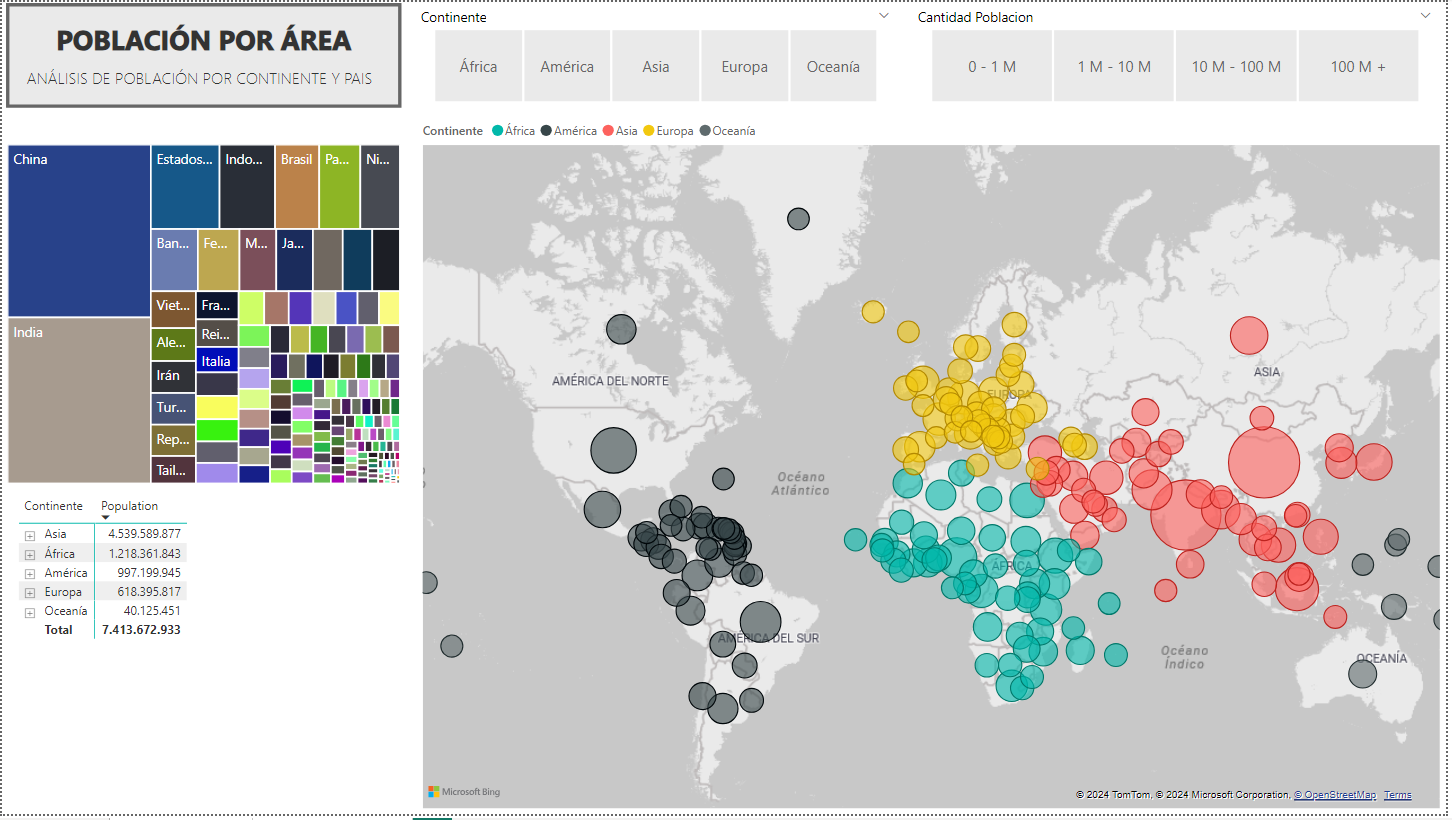

This screenshot's page, from the dashboard's own definition file:
{"tool":"powerbi","page":{"name":"Poblacion por area","canvas":[1280,720],"ordinal":0},"visuals":[{"type":"pivotTable","fields":{"Rows":["Paises.Continente","Paises.Pais"],"Values":["Sum(Population.Population)"]},"box":[10.2,432.3,347.7,287.8],"z":0},{"type":"slicer","fields":{"Values":["Population.Cantidad Poblacion"]},"box":[799.2,0,480.8,94.8],"z":1000},{"type":"slicer","fields":{"Values":["Paises.Continente"]},"box":[357.8,0,441.3,94.8],"z":2000},{"type":"treemap","fields":{"Group":["Paises.Pais"],"Values":["Sum(Population.Population)"]},"box":[0,121.9,357.8,310.4],"z":3000},{"type":"map","fields":{"Category":["Paises.Pais"],"Size":["Sum(Population.Population)"],"Series":["Paises.Continente"]},"box":[368,94.8,912,625.3],"z":4000},{"type":"basicShape","box":[0,0,357.8,94.8],"z":5000},{"type":"textbox","box":[0,11.3,357.8,55.3],"z":6000},{"type":"textbox","box":[0,51.9,349.9,50.8],"z":7000}]}

Visuals, with their boxes in screenshot pixels (x1, y1, x2, y2), scaled from the page's 1280x720 canvas onto the 1452x820 screenshot:
pivotTable - Paises.Continente x Paises.Pais: BBox(12, 492, 406, 819)
slicer - Population.Cantidad Poblacion: BBox(907, 0, 1451, 108)
slicer - Paises.Continente: BBox(406, 0, 906, 108)
treemap - Paises.Pais x Sum(Population.Population): BBox(0, 139, 406, 492)
map - Paises.Pais x Sum(Population.Population): BBox(417, 108, 1451, 819)
basicShape: BBox(0, 0, 406, 108)
textbox: BBox(0, 13, 406, 76)
textbox: BBox(0, 59, 397, 117)
